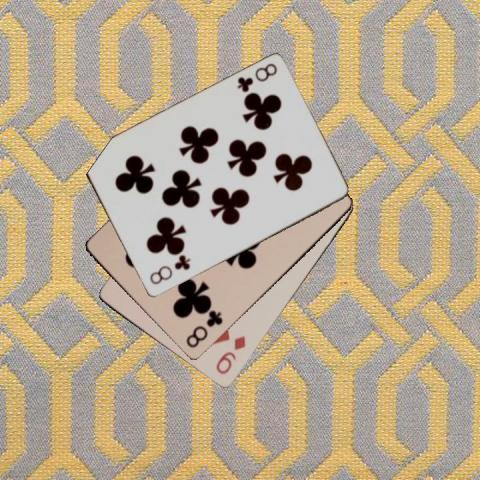8c: (182, 308, 224, 350), (234, 60, 279, 95), (146, 252, 192, 286)
9d: (213, 333, 247, 377)
